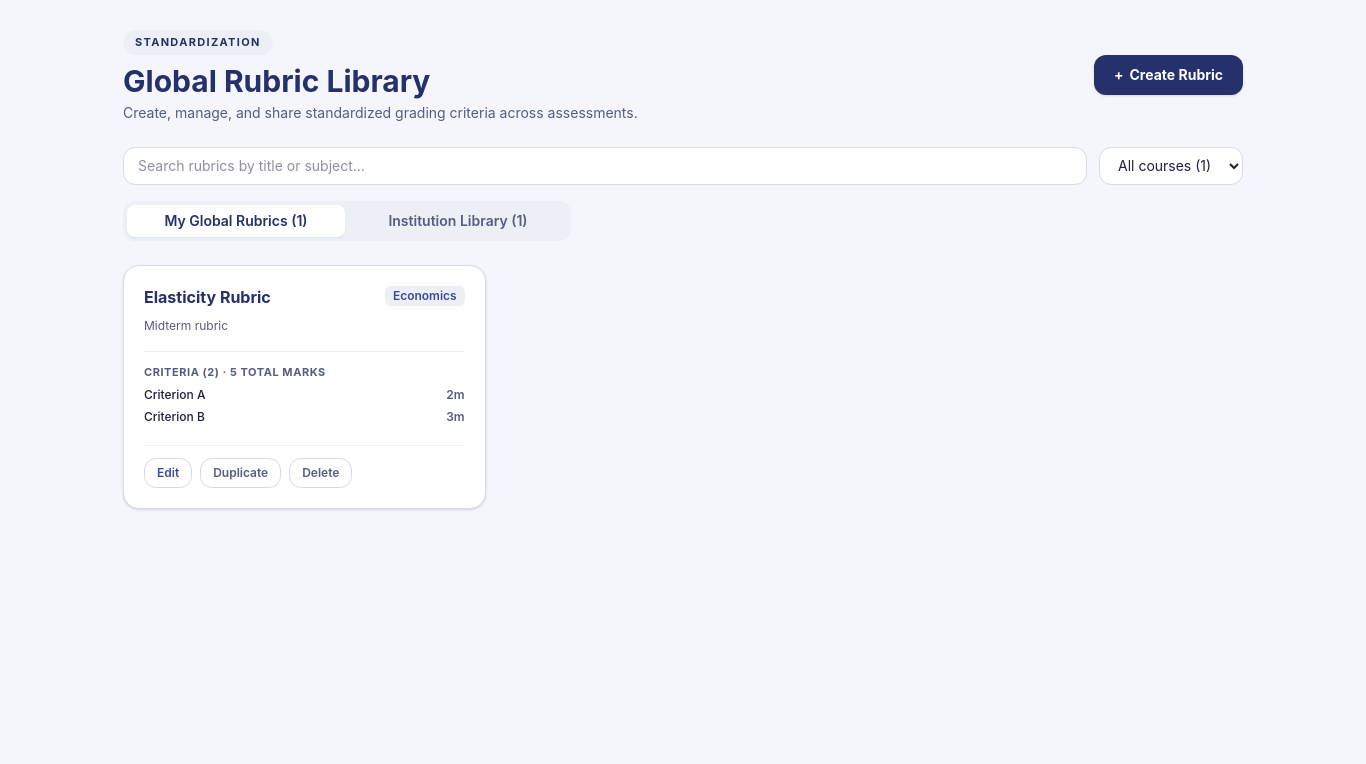
Scenario: RubricLibraryPage - Create & Edit Rubric Workflows › pre-populates existing course in Edit Rubric form and allows changing or keeping original course
Expected: the heading "Elasticity Rubric" is shown, [144,286,271,308]
# Click Edit on existing rubric card
Click the button "Edit" at (168, 472), box [144,458,192,488]
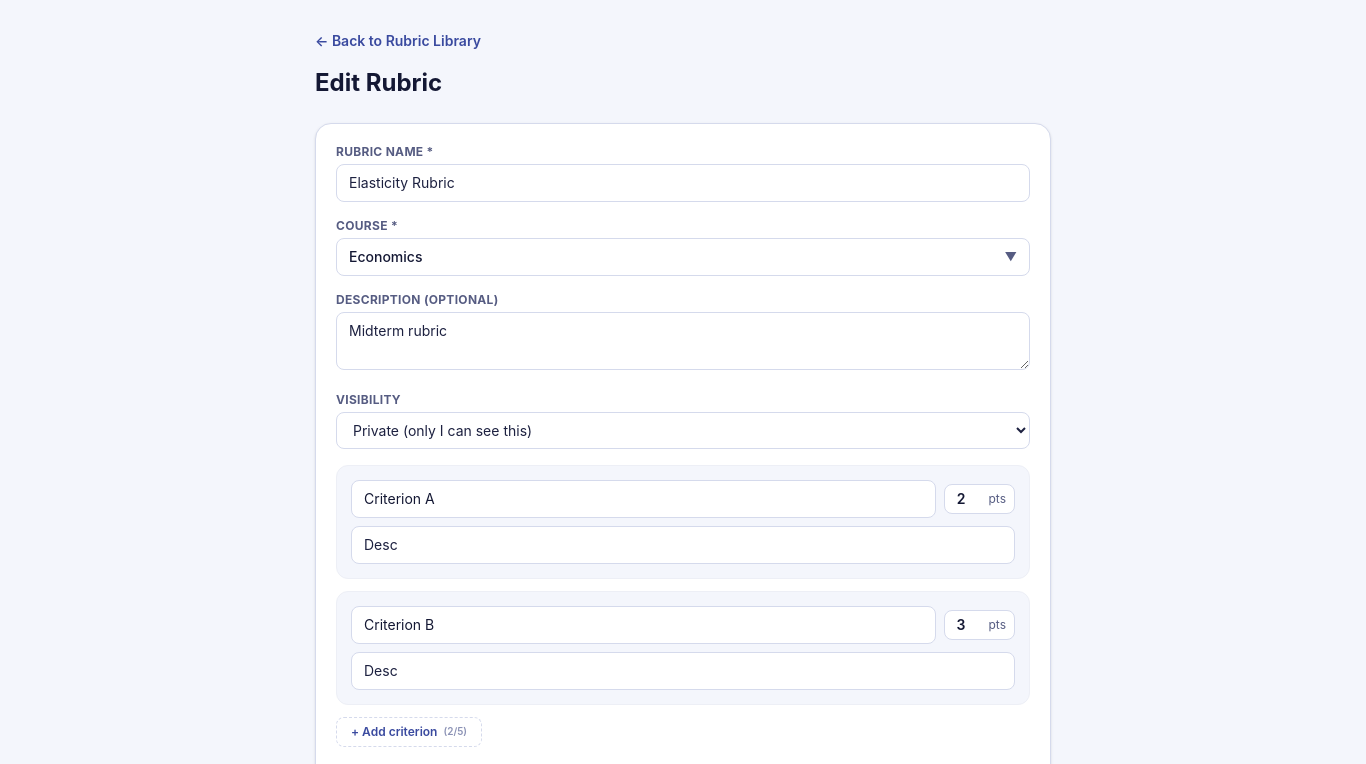
Expected: the heading "Edit Rubric" is shown, [315,68,442,97]
Expected: the button with aria-label "select course" shows "Economics"
# Click trigger and verify current course is in options
Click the button with aria-label "select course" at (386, 256), box [336,238,1030,276]
(page scrolled)
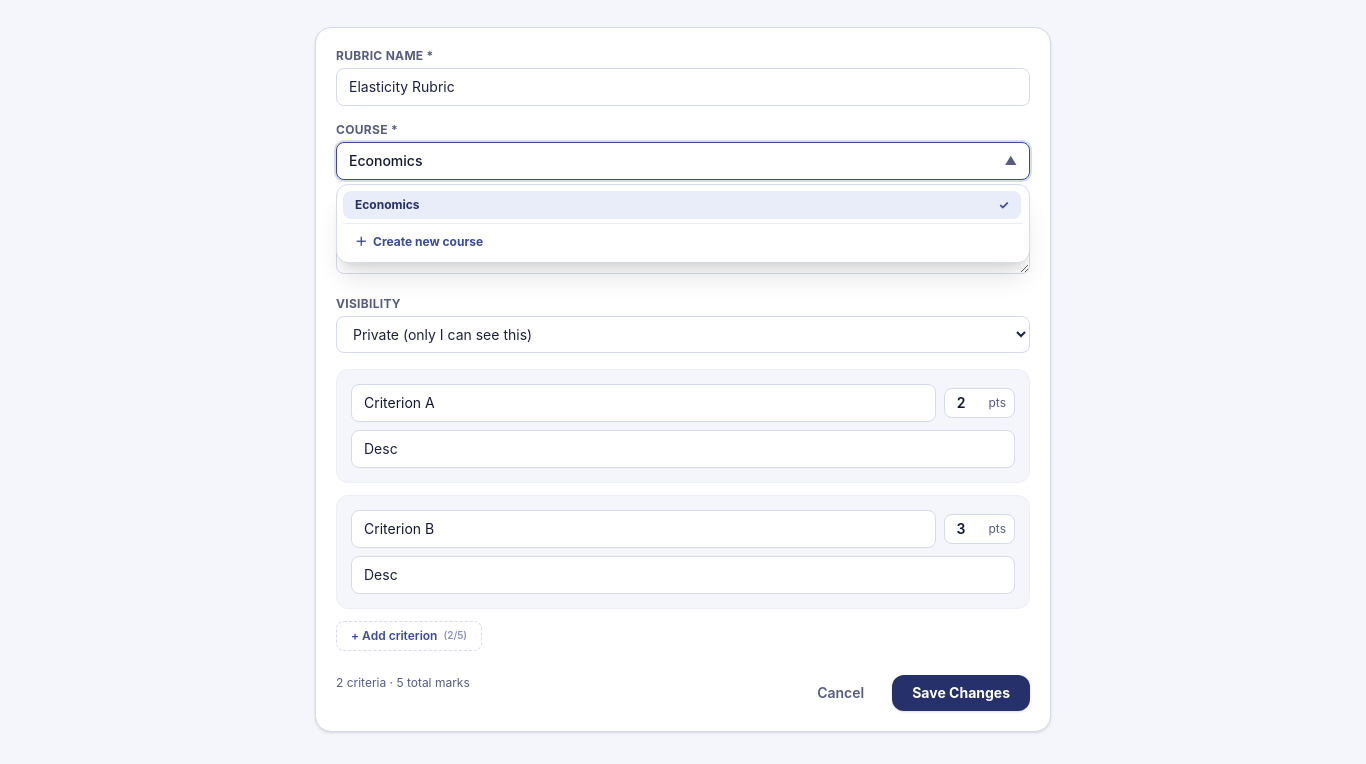
# Save edit without changing course (preserves original course)
Click the button "Save Changes" at (961, 693), box [892,675,1030,711]
(page scrolled)
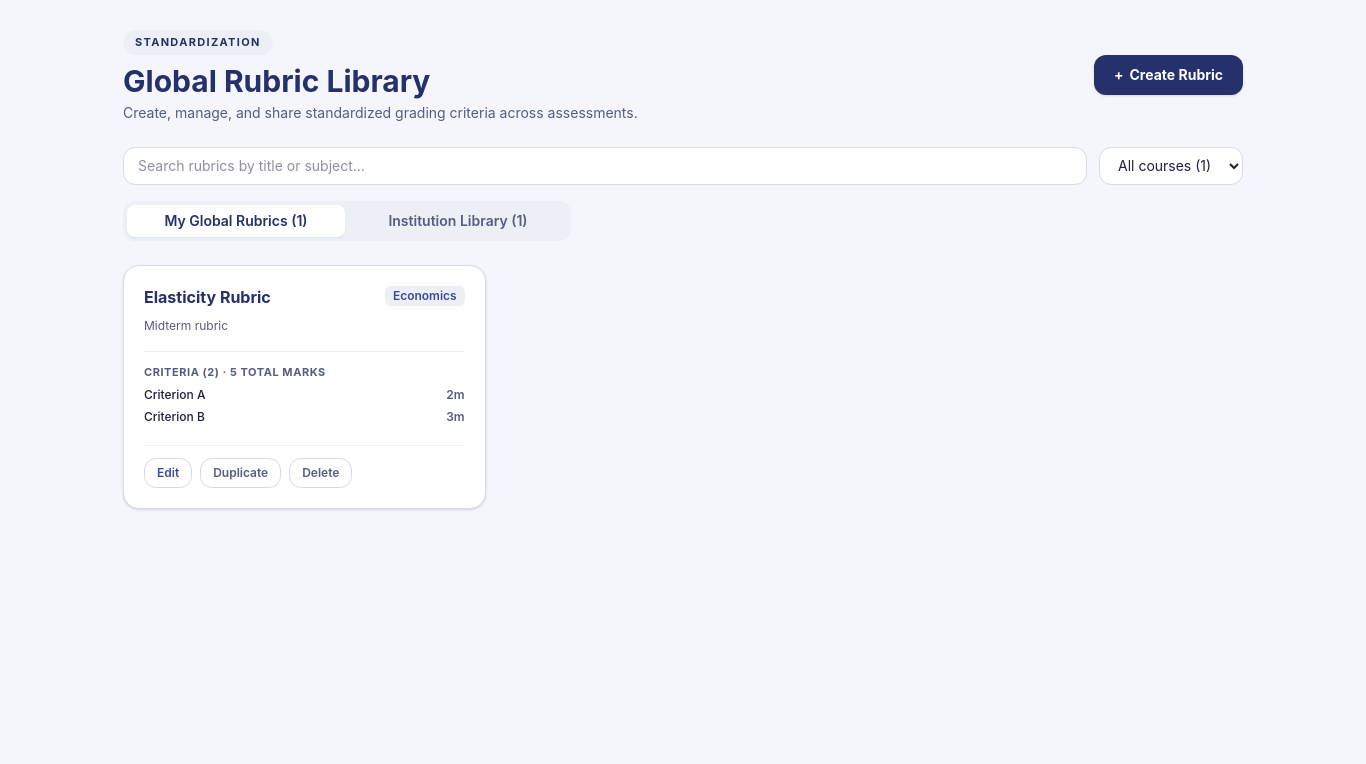
Expected: the heading "Elasticity Rubric" is shown, [144,286,271,308]
